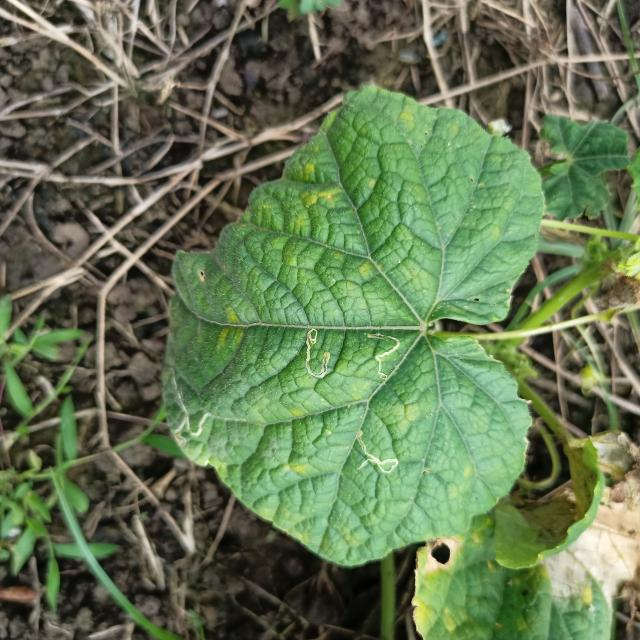disease_cucumber: (295, 164, 341, 210), (218, 312, 245, 346), (285, 462, 308, 474)
